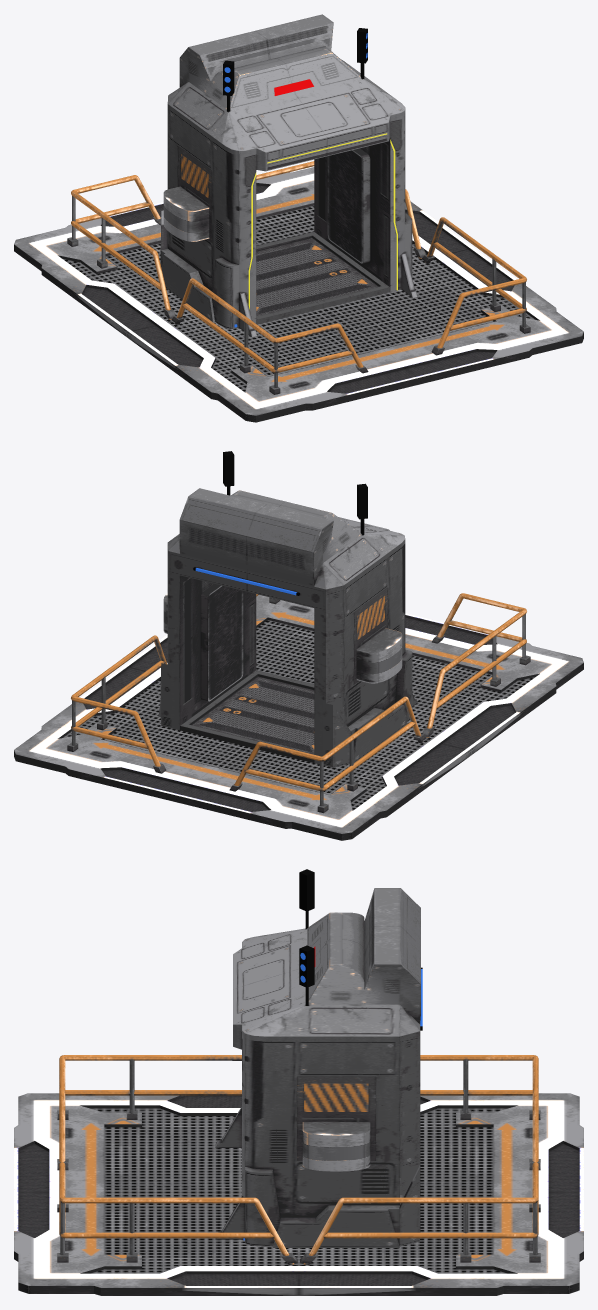
File: 43c3390a-2caa-4880-9350-a610987ae13b.glb
3 views of the same model, one above another, from view 1: azimuth 30°, elevation 25°; view 2: azimuth 150°, elevation 25°; view 3: azimuth 270°, elevation 25° (orthographic). The views are drawn at different scales.
Parts seen in each view (by area): view 1: Platform_Structure, Elevator_base; view 2: Platform_Structure, Elevator_base; view 3: Platform_Structure.
Boxes of the visible parts, x1,y1,x2,y2 form: Platform_Structure: [14, 14, 583, 422]; Elevator_base: [256, 232, 390, 324]; Platform_Structure: [14, 451, 583, 840]; Elevator_base: [180, 670, 314, 762]; Platform_Structure: [14, 869, 583, 1295].
Size of what is drawn, in the model's own units: 8.54 by 5.81 by 10.45.
2 materials, 2 textured.
